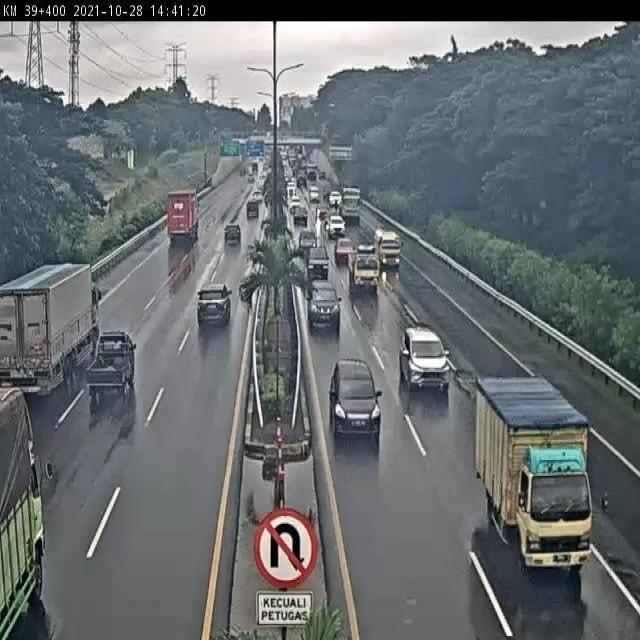car: (328, 357, 381, 443), (399, 327, 451, 393), (85, 331, 136, 396), (306, 280, 341, 332), (196, 281, 231, 328), (305, 244, 330, 279)
mid truck: (0, 262, 101, 398)
truck-m-: (474, 375, 594, 569), (346, 244, 381, 295)
